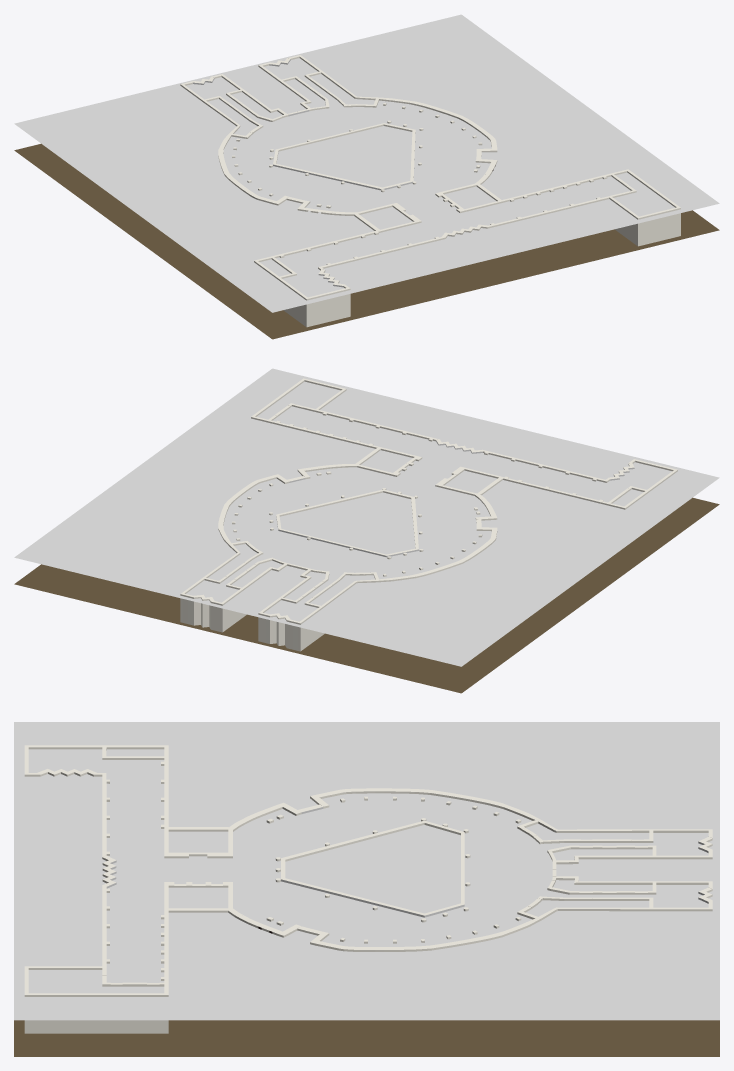
Rendered from Floor Plan5.fbx.
3 views of the same model, one above another, from view 1: azimuth 30°, elevation 25°; view 2: azimuth 150°, elevation 25°; view 3: azimuth 270°, elevation 25° (orthographic). The views are drawn at different scales.
Visible parts, largest first — view 1: Ceiling, Floor, Plane, Walls; view 2: Ceiling, Floor, Walls, Plane; view 3: Ceiling, Floor, Plane, Walls, Windows.
Part boxes in pixels (box(x1,y1,x2,y2)): Ceiling: box(14, 14, 719, 312); Floor: box(14, 143, 719, 339); Plane: box(254, 123, 680, 327); Walls: box(180, 55, 497, 215); Ceiling: box(14, 368, 719, 666); Floor: box(14, 497, 719, 693); Walls: box(180, 464, 497, 651); Plane: box(251, 378, 677, 555); Ceiling: box(14, 722, 719, 1020); Floor: box(14, 1020, 719, 1056); Plane: box(24, 745, 464, 1033); Walls: box(228, 788, 712, 951); Windows: box(106, 860, 464, 917).
Bounding box in the file's own units: 2886 × 280 × 2886.
